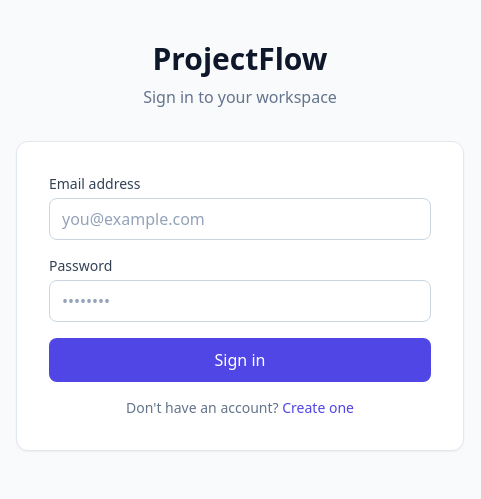
it: Login page › shows error message on failed login
Type "a@b.com" into the field labelled "Email address" at (240, 219), box [49,198,431,240]
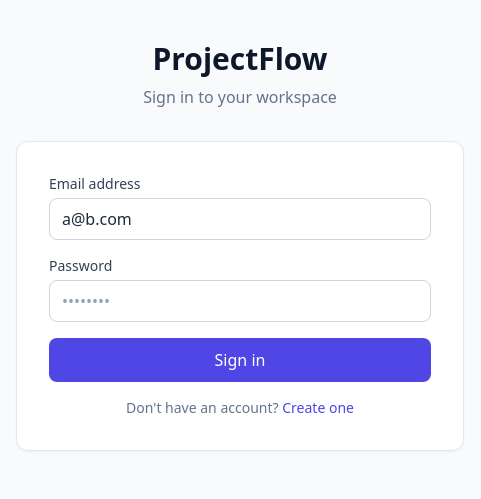
Type "wrongpass" into the password field labelled "Password" at (240, 301), box [49,280,431,322]
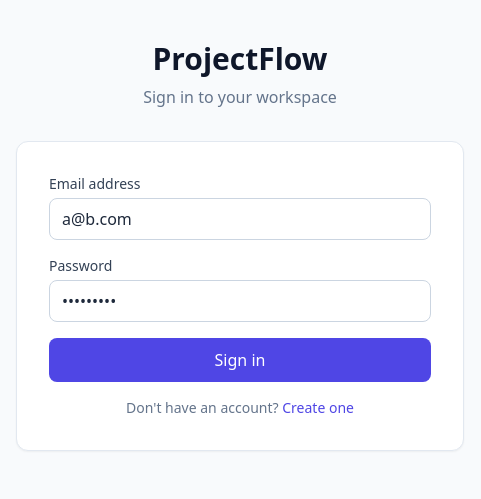
Click the button "Sign in" at (240, 360), box [49,338,431,382]
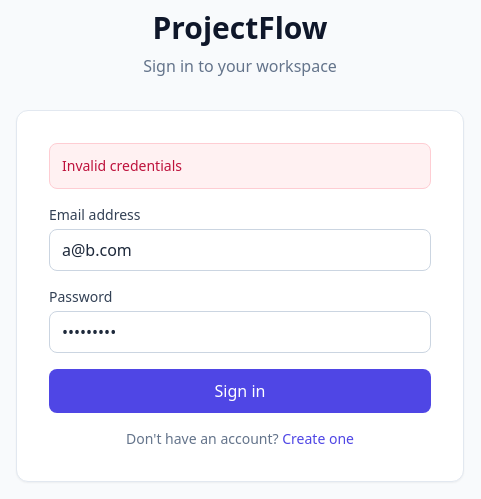
Result: the text "Invalid credentials" is shown at [49,143,431,189]
